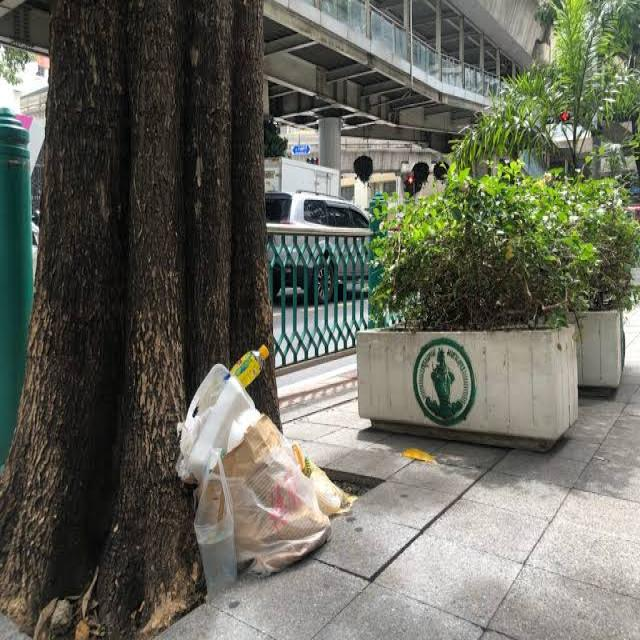plastic bag: (169, 326, 367, 536)
